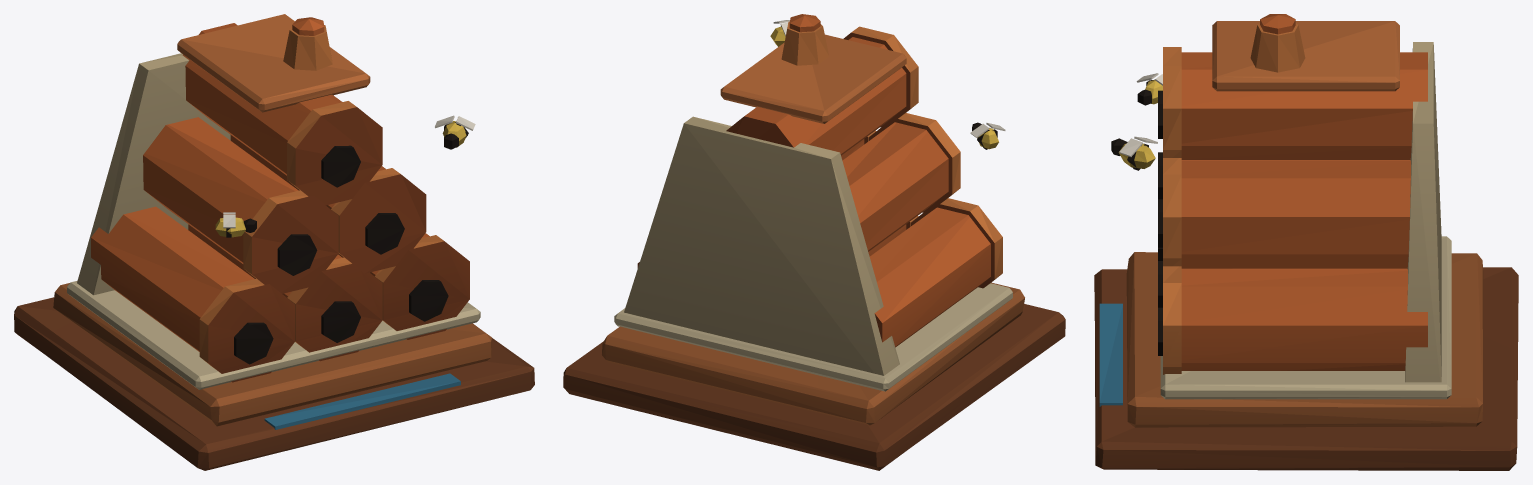
The model's file is clay_hive.glb.
3 renders of one model, left to right at view 1: azimuth 30°, elevation 25°; view 2: azimuth 150°, elevation 25°; view 3: azimuth 270°, elevation 25°, orthographic. The views are drawn at different scales.
Parts seen in each view (by area): view 1: clay_hive; view 2: clay_hive; view 3: clay_hive.
Boxes of the visible parts, <box> form: clay_hive: <box>14,14,534,470</box>; clay_hive: <box>563,14,1065,470</box>; clay_hive: <box>1094,14,1518,470</box>.
Size of the model in its own units: 0.9064 by 0.8983 by 0.9047.
